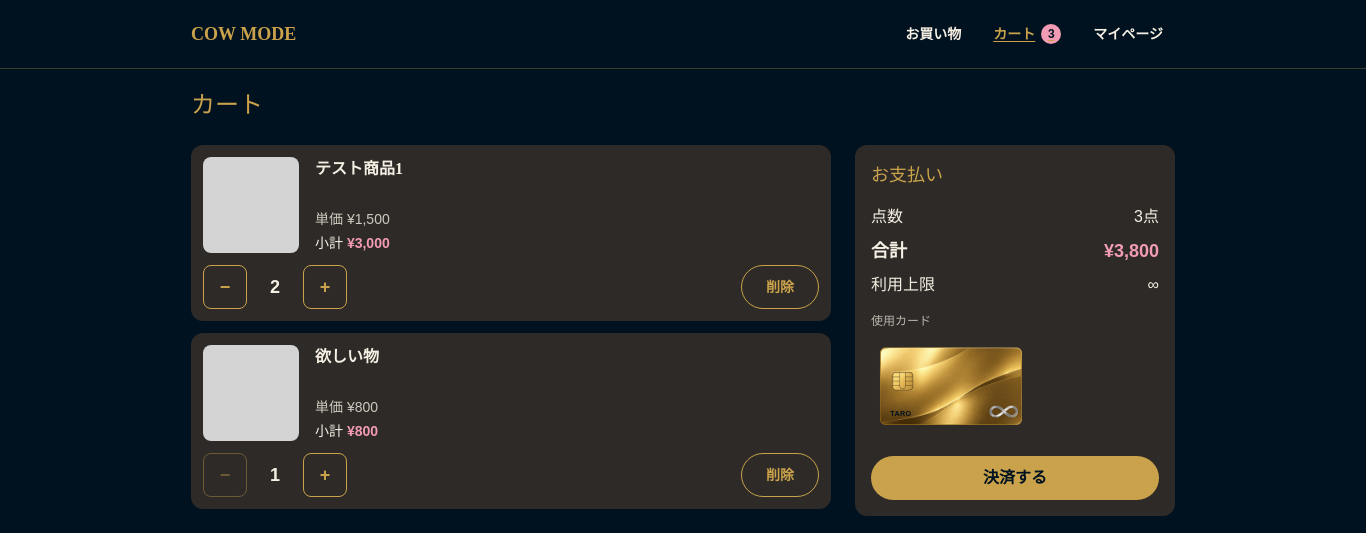
Test: CartPage(削除) › 削除すると、行が消え、合計・バッジ・保存が更新され、通知が出る
This screenshot has width=1366, height=533.
Click the button with aria-label "テスト商品1をカートから削除": (780, 287) [741, 265, 819, 309]
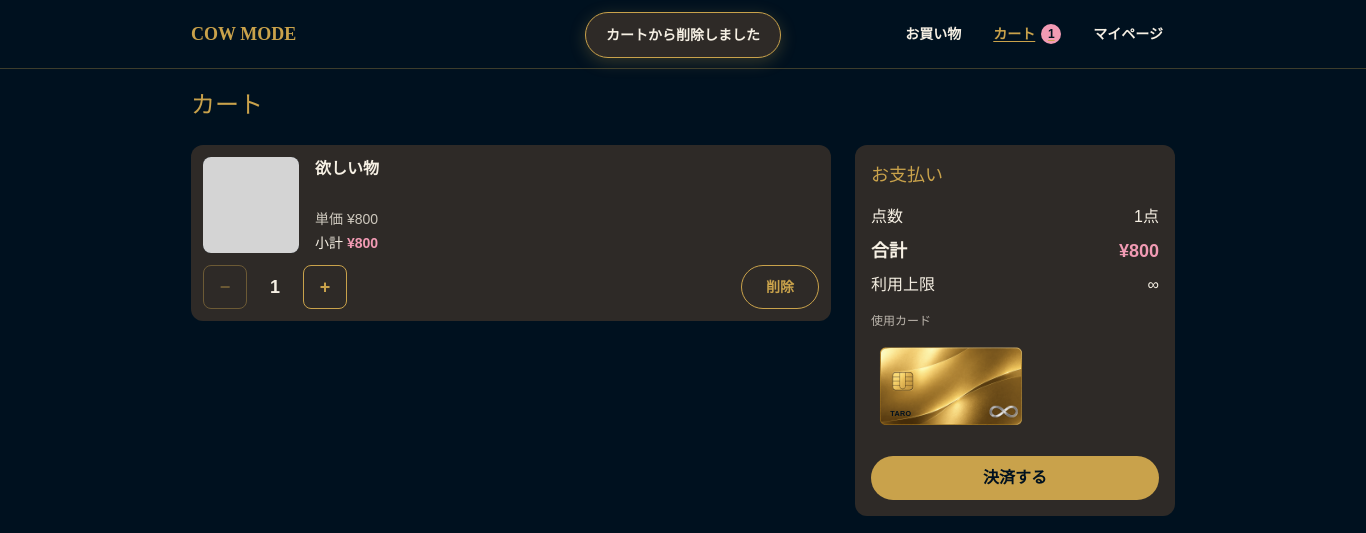
Result: the heading "テスト商品1" is gone
Result: the text "1点" is shown at [1134, 205, 1159, 229]
Result: the text "¥800" in the row of "合計" is shown at [1119, 241, 1159, 261]
